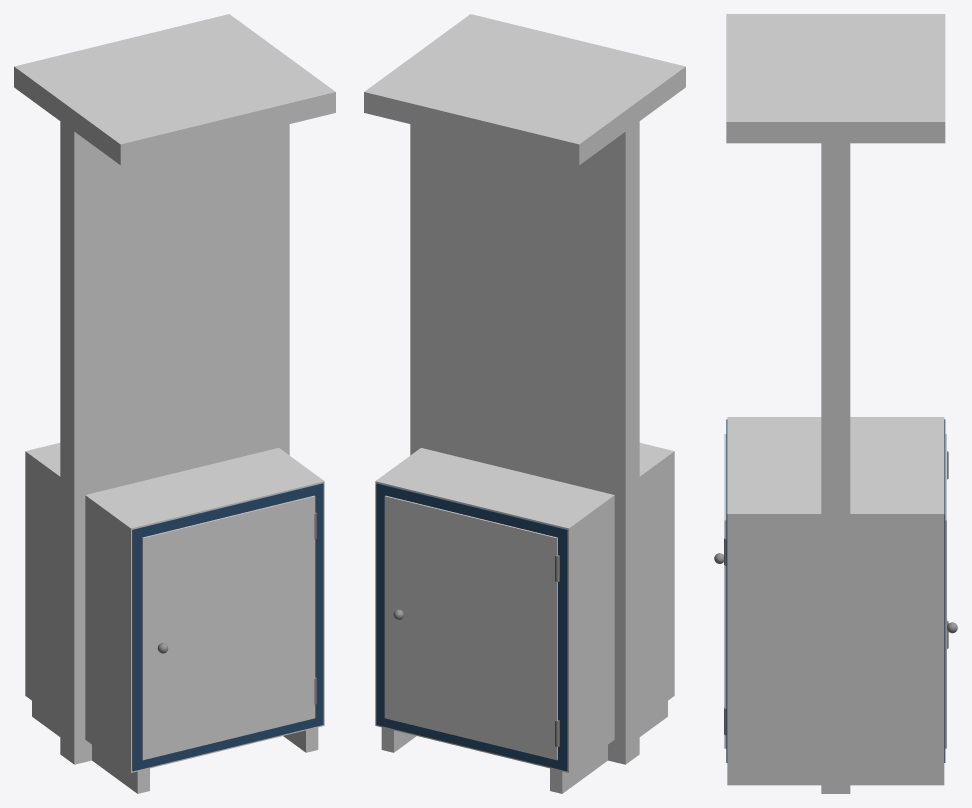
File: virtualWP-old.glb
3 views of the same model, side by side, from view 1: azimuth 30°, elevation 25°; view 2: azimuth 150°, elevation 25°; view 3: azimuth 270°, elevation 25° (orthographic). The views are drawn at different scales.
Visible parts, largest first — view 1: Cube, Cube.3, Cube.6, Cube.1, Cube.2, Cube.4, Cube.5; view 2: Cube, Cube.3, Cube.6, Cube.1, Cube.2, Cube.4, Cube.5; view 3: Cube.6, Cube.1, Cube, Cube.5, Cube.3, Cube.2.
Boxes of the visible parts, left/top/right/bottom form: Cube: left=60, top=111, right=289, bottom=764; Cube.3: left=142, top=495, right=315, bottom=760; Cube.6: left=25, top=443, right=324, bottom=772; Cube.1: left=14, top=14, right=335, bottom=165; Cube.2: left=132, top=483, right=323, bottom=771; Cube.4: left=32, top=701, right=149, bottom=793; Cube.5: left=283, top=727, right=318, bottom=752; Cube: left=410, top=113, right=639, bottom=764; Cube.3: left=384, top=495, right=557, bottom=760; Cube.6: left=375, top=443, right=674, bottom=772; Cube.1: left=364, top=14, right=685, bottom=165; Cube.2: left=376, top=483, right=567, bottom=771; Cube.4: left=550, top=701, right=667, bottom=793; Cube.5: left=381, top=727, right=416, bottom=752; Cube.6: left=727, top=417, right=944, bottom=765; Cube.1: left=726, top=14, right=945, bottom=143; Cube: left=821, top=132, right=850, bottom=793; Cube.5: left=727, top=765, right=944, bottom=785; Cube.3: left=724, top=434, right=946, bottom=748; Cube.2: left=726, top=419, right=945, bottom=762.
Bounding box in the file's own units: 0.7 × 2.03 × 0.6678.
